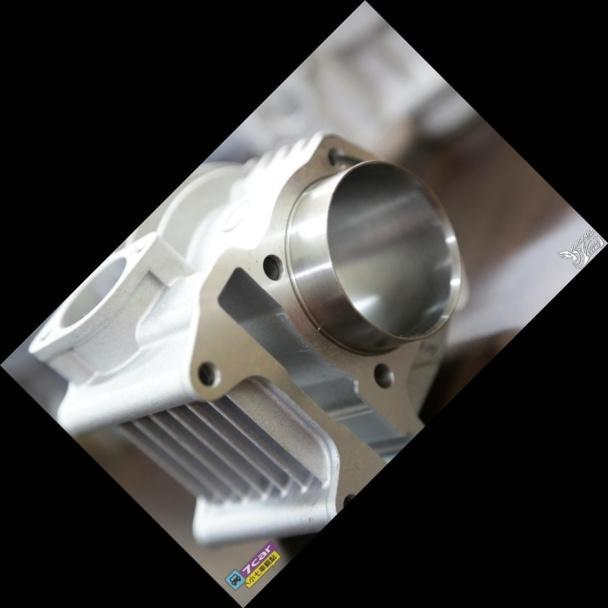hole: (189, 354, 229, 394), (253, 247, 293, 286), (364, 356, 403, 395)
